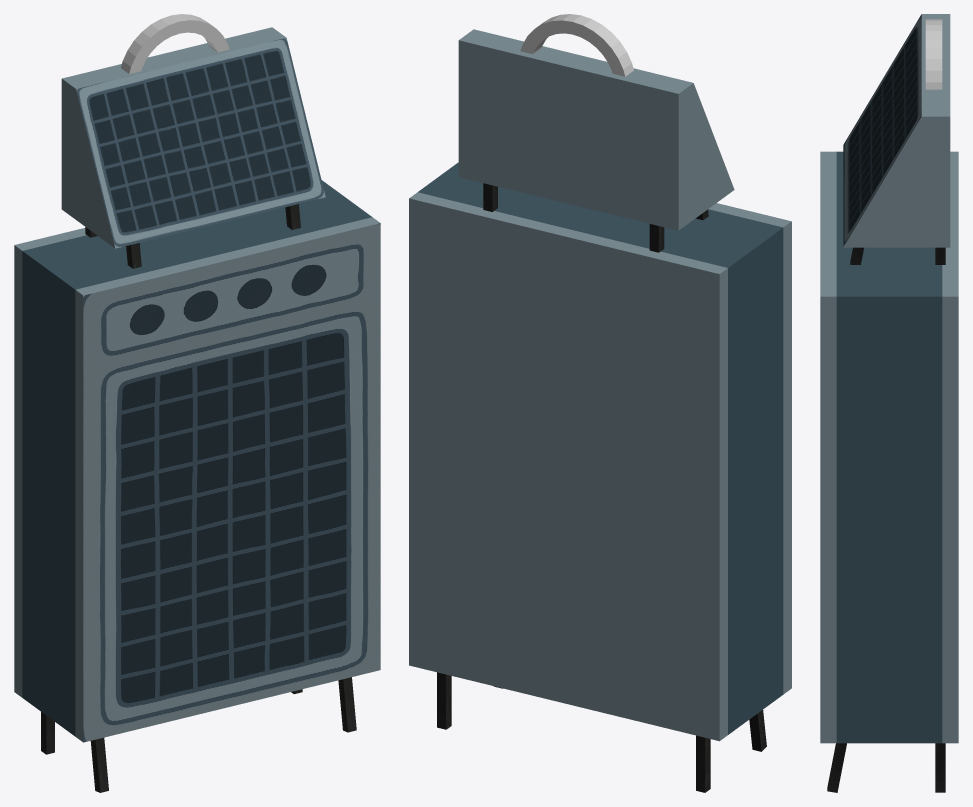
Rendered from amplificador.obj.
3 views of the same model, side by side, from view 1: azimuth 30°, elevation 25°; view 2: azimuth 150°, elevation 25°; view 3: azimuth 270°, elevation 25° (orthographic). The views are drawn at different scales.
Visible parts, largest first — view 1: Cube, Cube.009, Circle, Cube.001, Cube.006; view 2: Cube, Cube.009, Circle, Cube.007, Cube.008; view 3: Cube, Cube.009, Circle, Cube.006, Cube.007.
Boxes of the visible parts, x1,y1,x2,y2 form: Cube: [14, 180, 380, 742]; Cube.009: [61, 27, 325, 248]; Circle: [121, 14, 229, 73]; Cube.001: [90, 737, 108, 792]; Cube.006: [338, 677, 356, 732]; Cube: [409, 162, 791, 741]; Cube.009: [458, 29, 734, 230]; Circle: [520, 14, 633, 76]; Cube.007: [437, 672, 451, 729]; Cube.008: [696, 735, 710, 792]; Cube: [820, 151, 958, 743]; Cube.009: [843, 14, 950, 247]; Circle: [925, 19, 942, 89]; Cube.006: [827, 743, 846, 792]; Cube.007: [935, 743, 945, 792].
Bounding box in the file's own units: 3.36 × 7.62 × 1.35.
